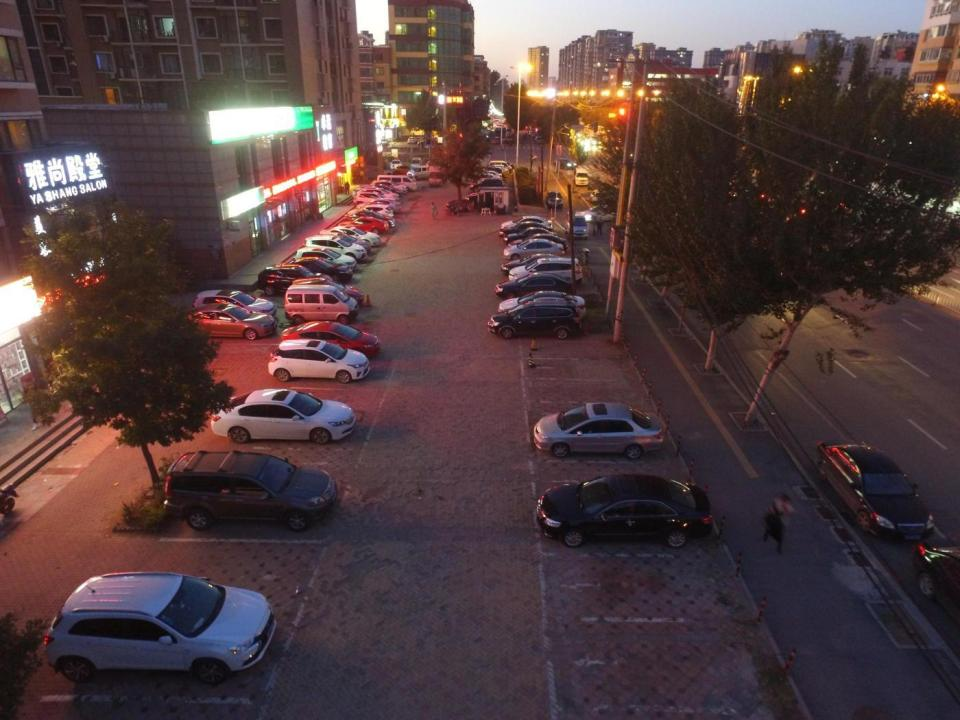car: (43, 566, 274, 686), (158, 442, 341, 532), (814, 436, 939, 545), (537, 474, 718, 548), (201, 385, 361, 446), (530, 399, 665, 455), (265, 334, 373, 385), (173, 300, 280, 340), (283, 320, 381, 358), (487, 307, 584, 340), (495, 291, 586, 321), (194, 290, 276, 322), (294, 274, 368, 305), (305, 234, 366, 269), (255, 265, 334, 292), (509, 259, 583, 286), (292, 246, 357, 276), (492, 274, 570, 298), (500, 255, 575, 277), (288, 257, 354, 281), (318, 229, 370, 258), (330, 222, 381, 250), (503, 241, 565, 261), (349, 211, 395, 237), (350, 191, 398, 214), (508, 234, 567, 252), (499, 220, 554, 239), (357, 185, 399, 208), (502, 228, 558, 245), (352, 197, 402, 216), (500, 215, 554, 232), (340, 217, 389, 234), (351, 206, 396, 224), (580, 204, 617, 224), (369, 180, 406, 196), (588, 190, 612, 210), (371, 184, 400, 200), (547, 190, 563, 208), (426, 158, 452, 168), (556, 157, 577, 169), (392, 164, 414, 175), (389, 159, 403, 171), (417, 140, 440, 147), (410, 157, 422, 168), (491, 136, 500, 144), (535, 136, 544, 144), (408, 136, 416, 144), (417, 136, 425, 142), (532, 132, 538, 138), (528, 130, 535, 135), (531, 131, 536, 136), (530, 128, 534, 134)
van: (287, 287, 362, 322), (378, 172, 420, 190), (568, 212, 588, 239), (406, 165, 435, 179), (429, 165, 445, 187), (574, 166, 588, 187)
